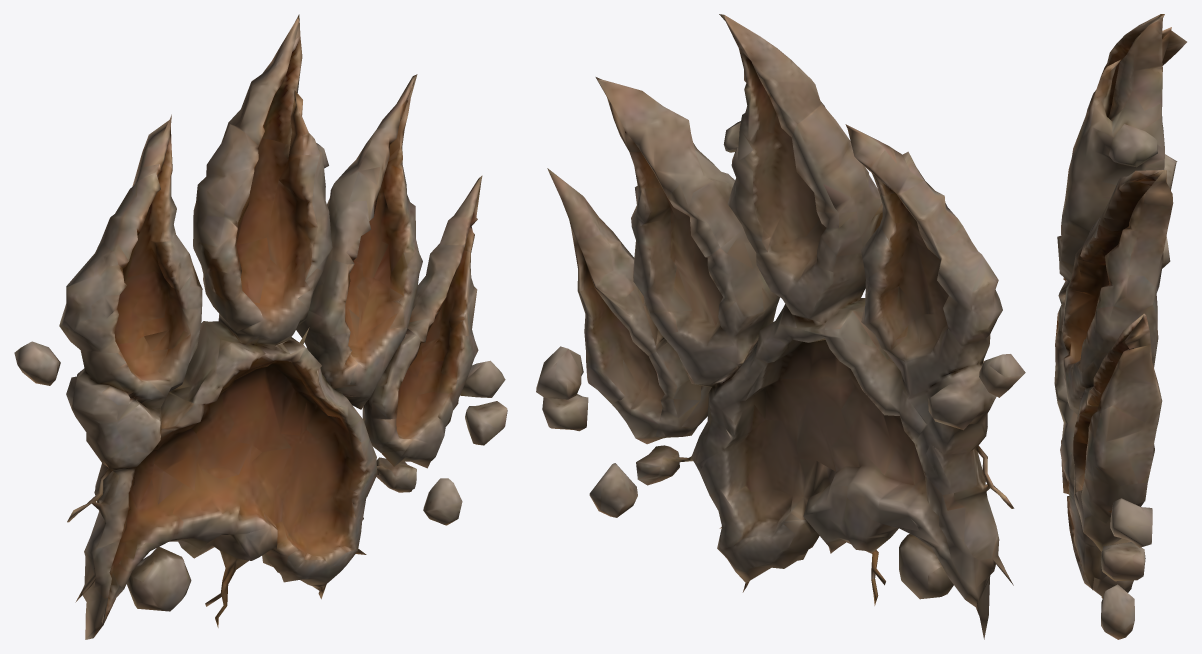
Rendered from marca_de_pata.glb.
3 renders of one model, left to right at view 1: azimuth 30°, elevation 25°; view 2: azimuth 150°, elevation 25°; view 3: azimuth 270°, elevation 25°, orthographic. The views are drawn at different scales.
Parts seen in each view (by area): view 1: marca_de_pata; view 2: marca_de_pata; view 3: marca_de_pata.
Part boxes in pixels (box(x1,y1,x2,y2)): marca_de_pata: box(14, 14, 507, 639); marca_de_pata: box(536, 14, 1025, 639); marca_de_pata: box(1054, 14, 1186, 639).
Bounding box in the file's own units: 0.3893 × 0.45 × 0.0895.
1 material, 1 textured.
